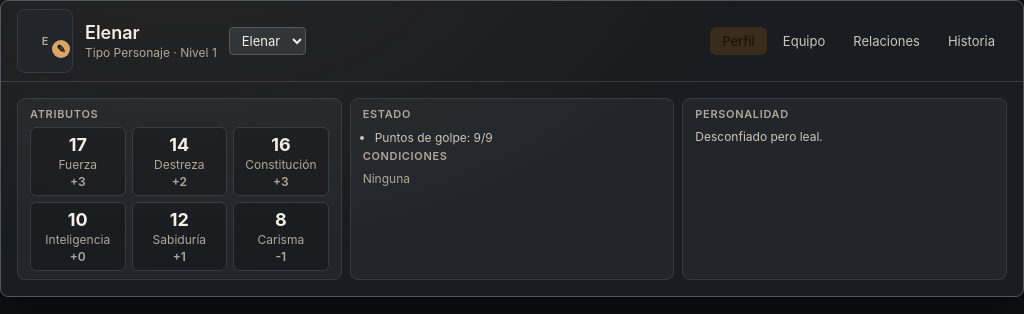
it: Character Hub (PMB-3.7) › el lore Solo DM solo se renderiza para el DM
Later steps or results of the test are not shown.
Click the button "Historia".
click(971, 41)  # box 936,27 -> 1007,55
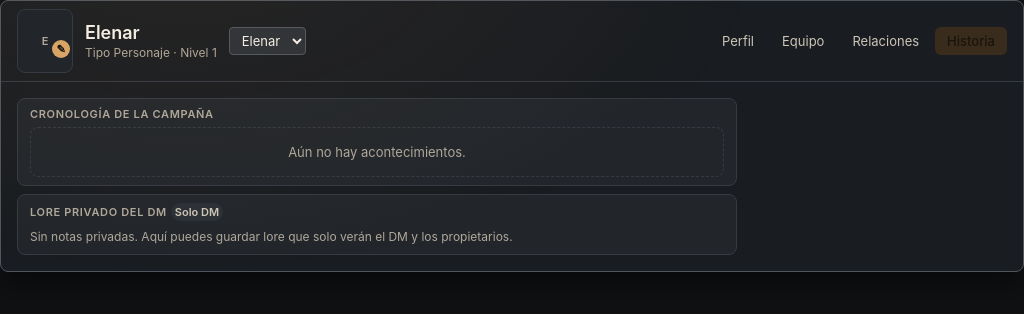
Check: the text "Solo DM" is shown, box 171,203 -> 223,221
Check: the text "solo verán el DM y los propietarios" is shown, box 30,229 -> 513,244
